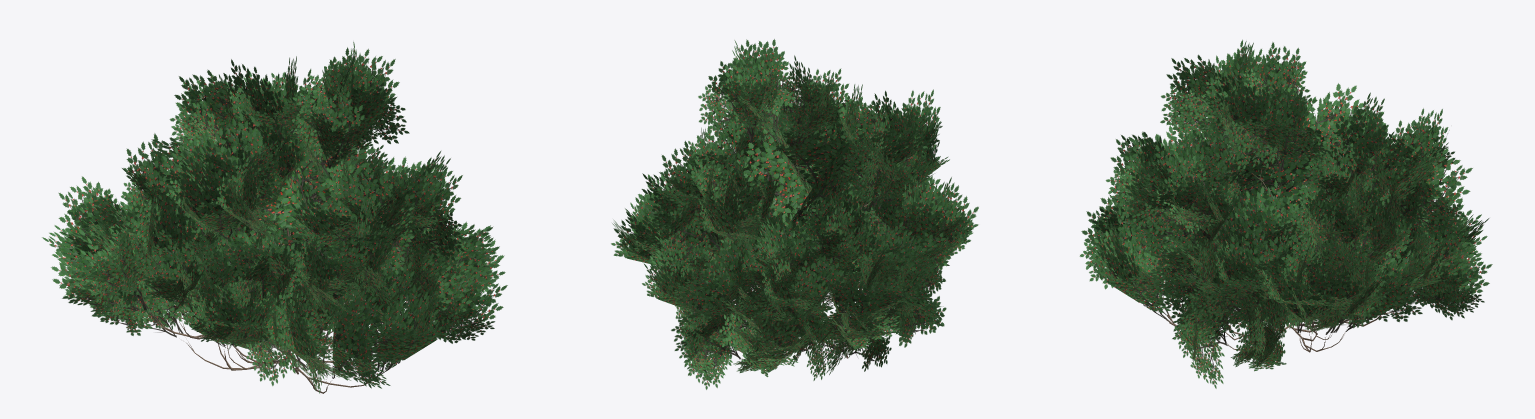
File: holly.glb
The picture shows the model from 3 angles, left to right: view 1: azimuth 30°, elevation 25°; view 2: azimuth 150°, elevation 25°; view 3: azimuth 270°, elevation 25°; orthographic projection. The views are drawn at different scales.
Parts seen in each view (by area): view 1: Object_16; view 2: Object_16; view 3: Object_16.
Part boxes in pixels (left/top/right/bottom): Object_16: left=42, top=41, right=507, bottom=393; Object_16: left=611, top=39, right=978, bottom=389; Object_16: left=1079, top=39, right=1492, bottom=388.
Bounding box in the file's own units: 7.7 × 5.25 × 7.47.
2 materials, 2 textured.
